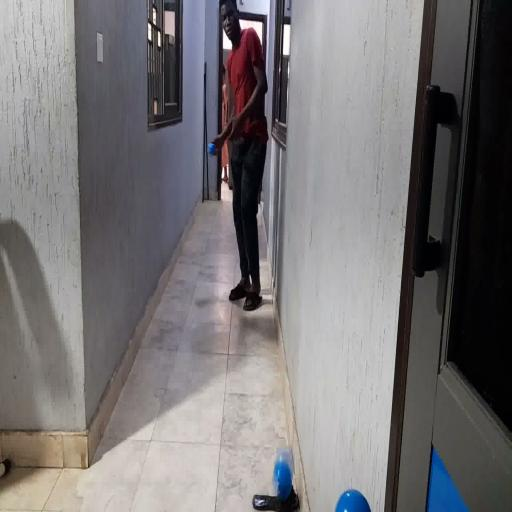plastic-ball: (270, 444, 296, 494), (332, 483, 374, 512)
